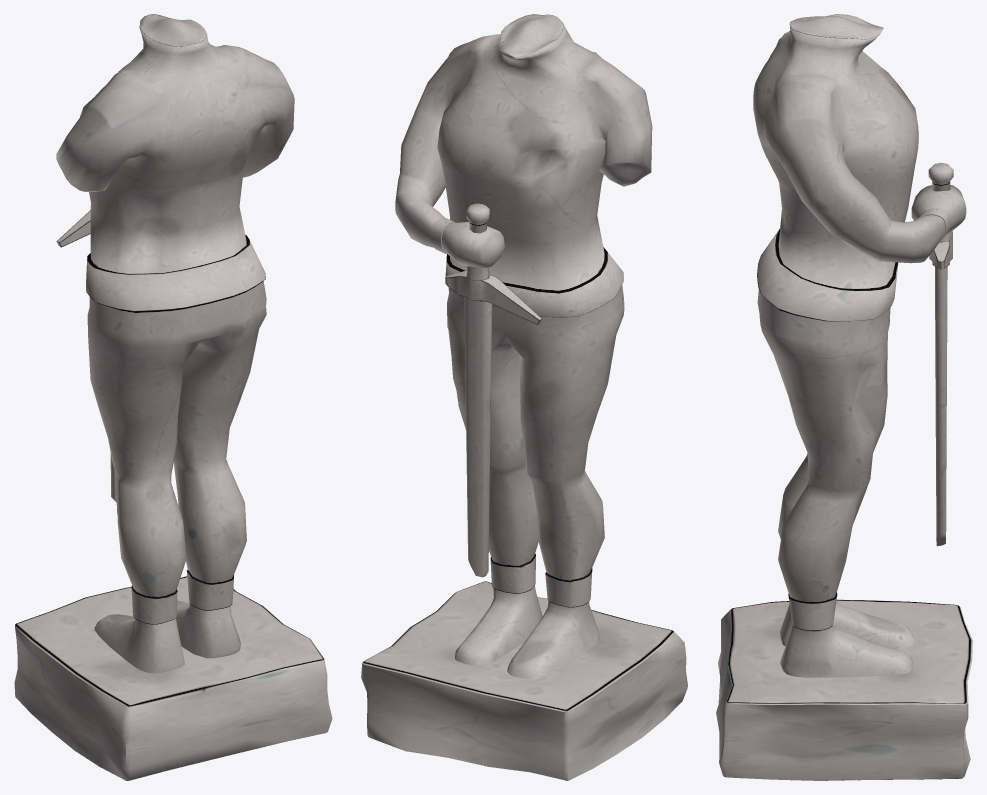
The model's file is staute.fbx.
The picture shows the model from 3 angles, left to right: view 1: azimuth 30°, elevation 25°; view 2: azimuth 150°, elevation 25°; view 3: azimuth 270°, elevation 25°; orthographic projection. The views are drawn at different scales.
Parts seen in each view (by area): view 1: Statue; view 2: Statue; view 3: Statue.
Boxes of the visible parts, box(x1,y1,x2,y2) form: Statue: box(14, 14, 332, 780); Statue: box(361, 14, 687, 780); Statue: box(716, 14, 972, 780).
Bounding box in the file's own units: 63.65 × 184 × 59.95.
1 material, 1 textured.
